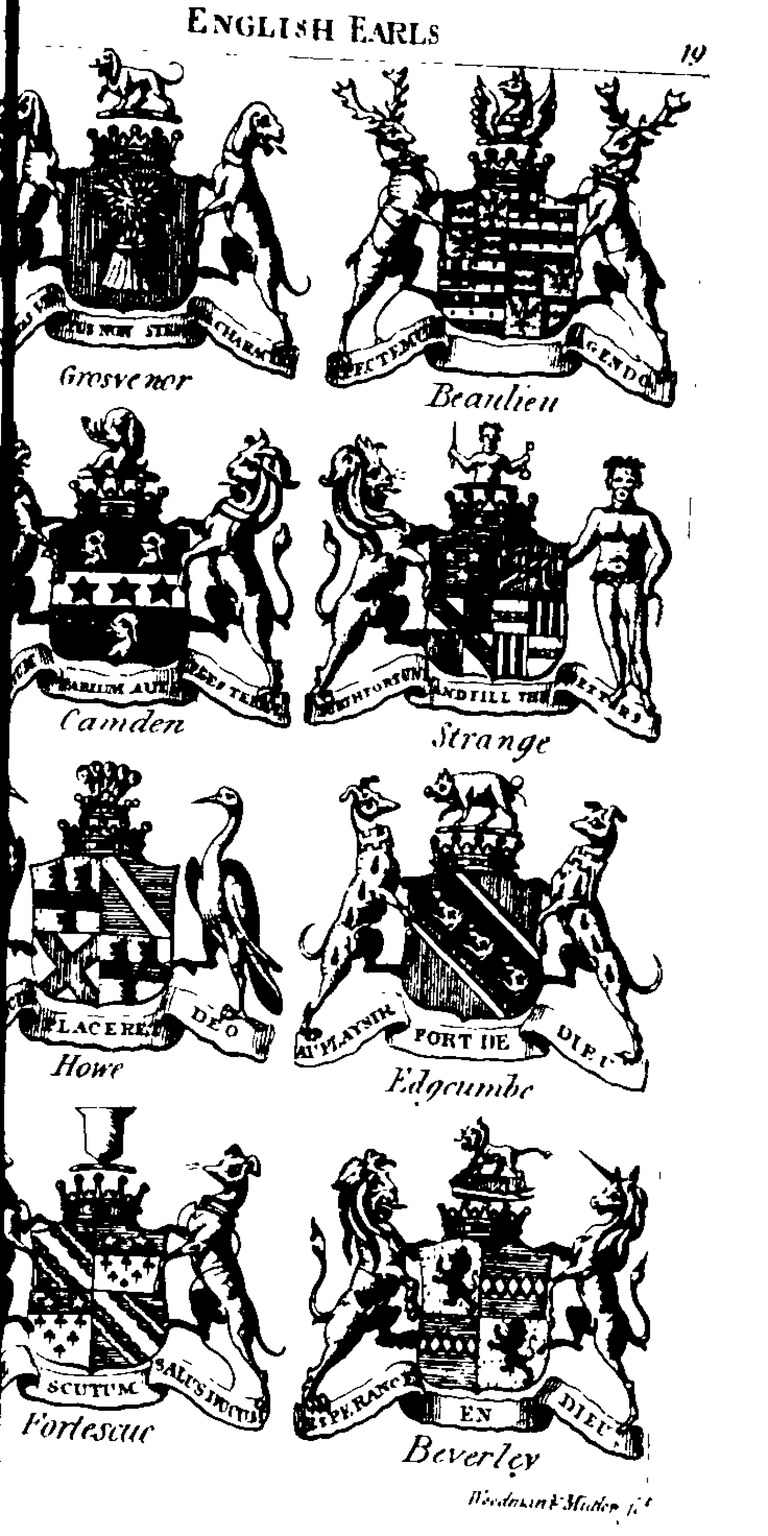coat_of_arms: (313, 50, 708, 422), (286, 1109, 674, 1482), (285, 762, 678, 1110), (304, 427, 682, 760), (10, 50, 310, 410), (2, 1101, 290, 1466), (9, 415, 303, 747), (4, 756, 289, 1087)
